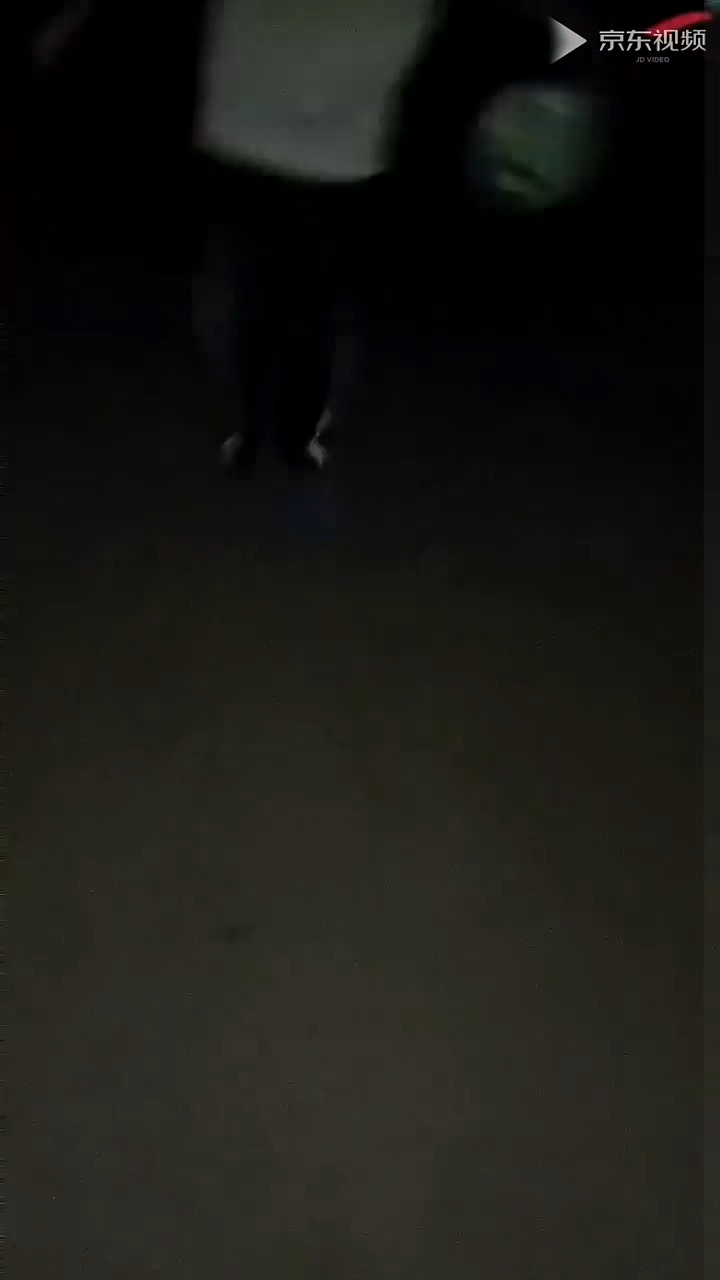ball: (474, 80, 598, 209)
